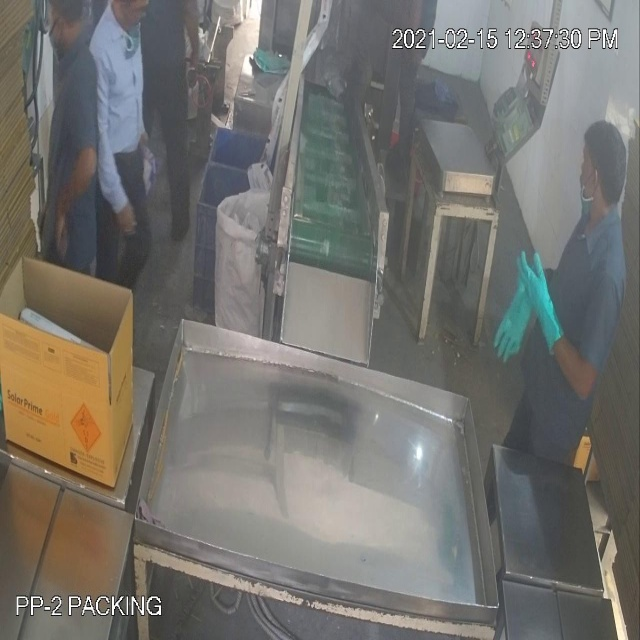Guantes: (518, 236, 570, 365)
Sin_guantes: (91, 96, 143, 252), (51, 132, 99, 251), (179, 1, 200, 93)
